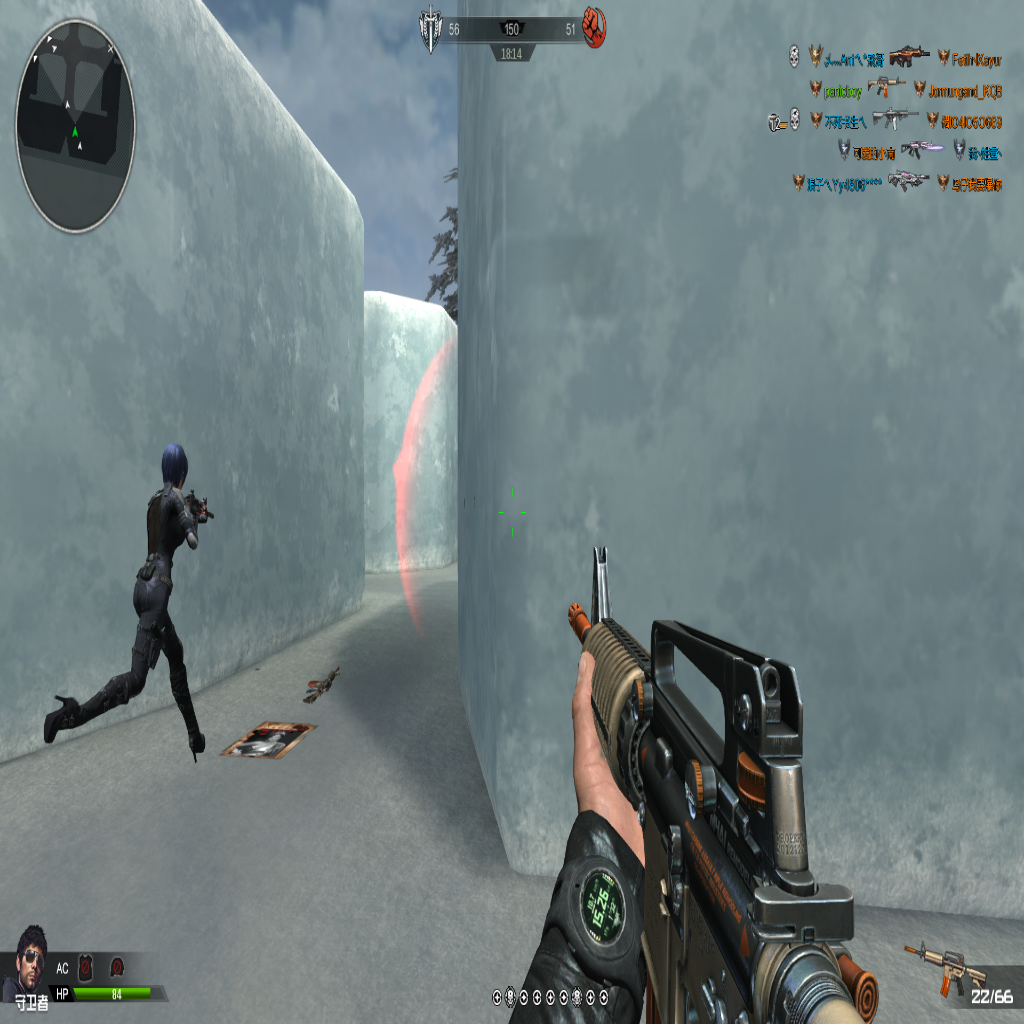ct: (50, 441, 215, 782)
